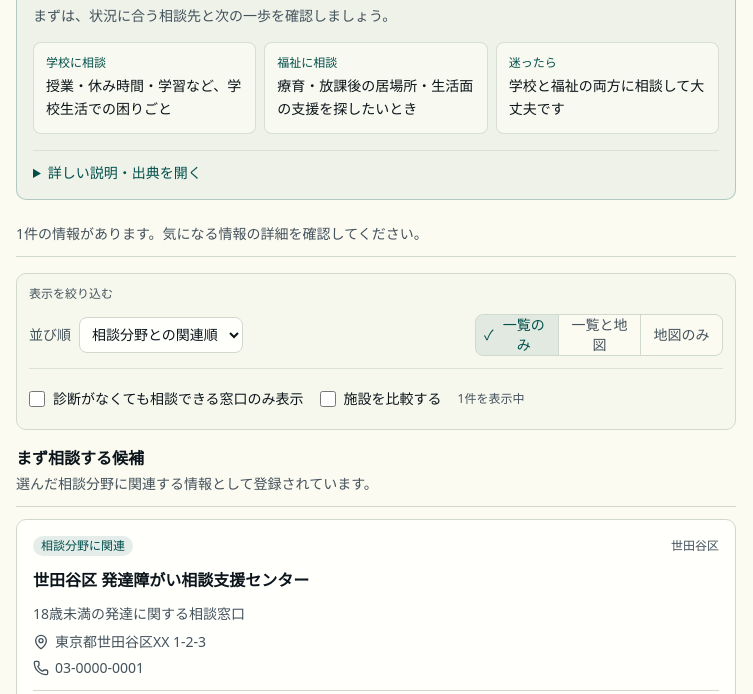
FacilityResultsView › 並び替え行右側の表示切り替えで一覧と地図の表示を切り替えられる
(page scrolled)
Expected: the heading "世田谷区 発達障がい相談支援センター" is shown, [33,568,309,590]
Click the radio button labelled "一覧と地図" at (599, 334), box [558,314,640,354]
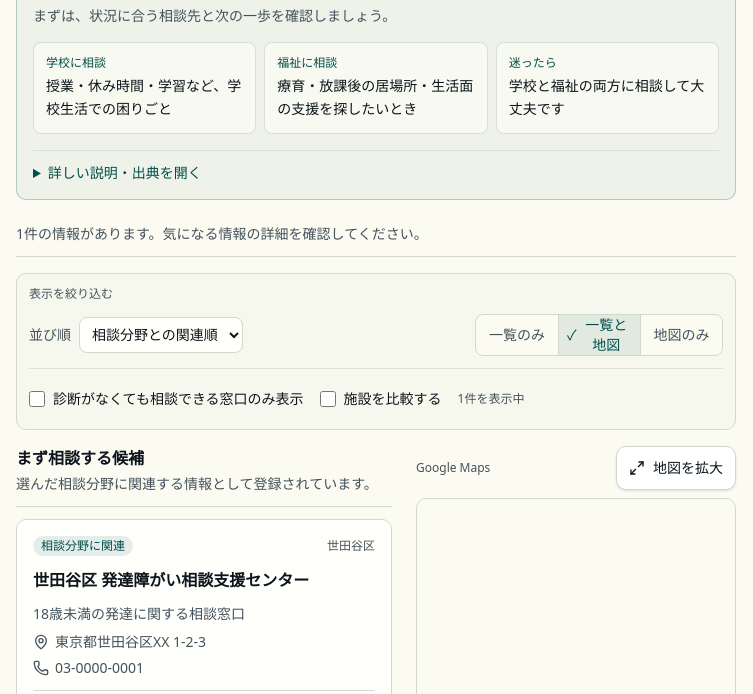
Expected: the heading "世田谷区 発達障がい相談支援センター" is shown, [33,568,309,590]
Click the radio button labelled "地図のみ" at (681, 334), box [640,314,722,354]
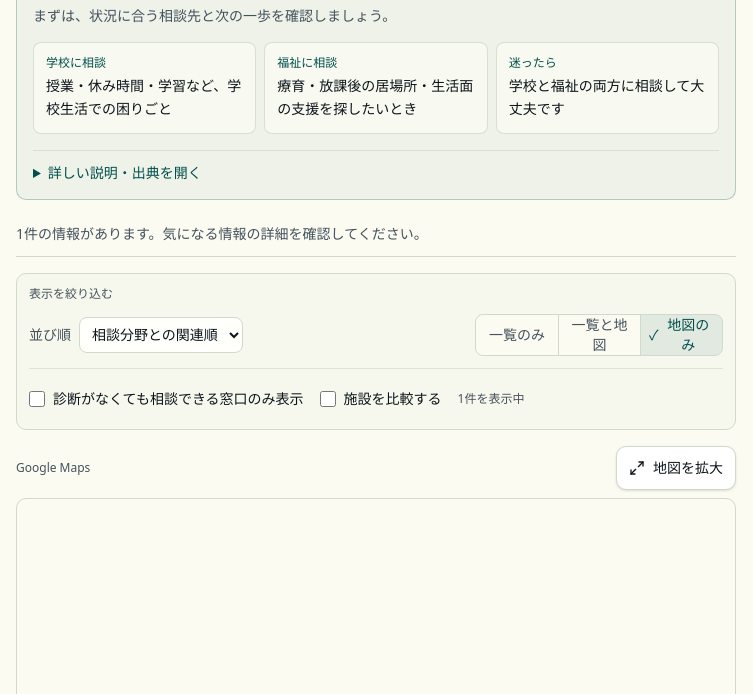
Expected: the heading "世田谷区 発達障がい相談支援センター" is gone
Click the radio button labelled "一覧のみ" at (517, 334), box [476,314,558,354]
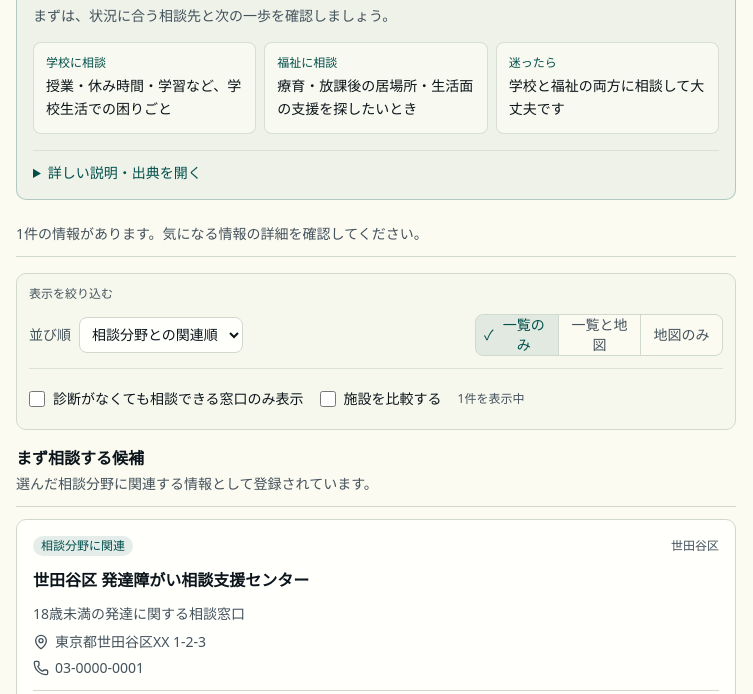
Expected: the heading "世田谷区 発達障がい相談支援センター" is shown, [33,568,309,590]
